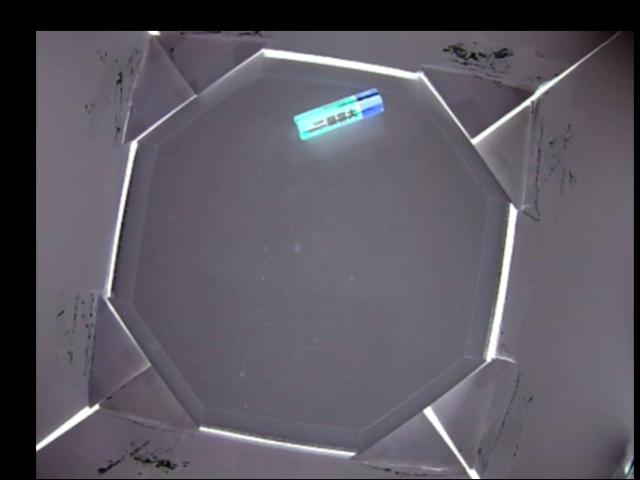Battery: (292, 86, 384, 139)
